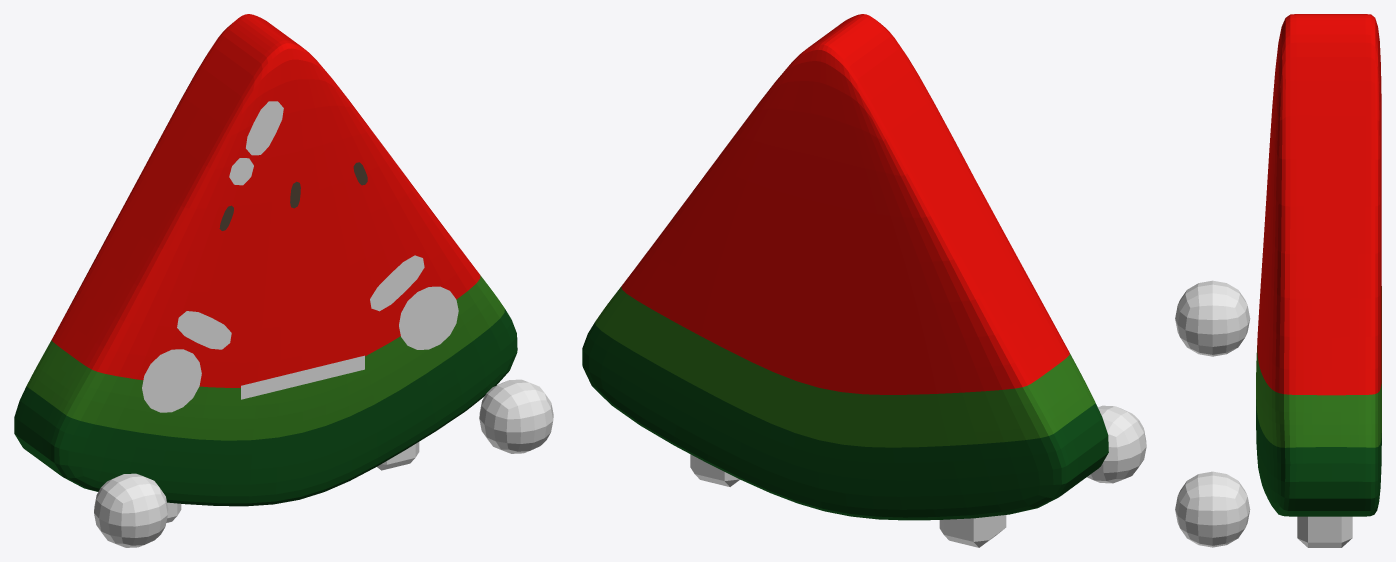
The model's file is Watermelon.fbx.
3 views of the same model, side by side, from view 1: azimuth 30°, elevation 25°; view 2: azimuth 150°, elevation 25°; view 3: azimuth 270°, elevation 25° (orthographic). The views are drawn at different scales.
Visible parts, largest first — view 1: Body, Cube, Eyes, Eyebrows, Mouth, Gloss, Pupils, Feet; view 2: Body, Cube, Feet; view 3: Body, Cube, Feet.
Boxes of the visible parts, box(x1,y1,x2,y2) form: Body: box(14, 14, 517, 506); Cube: box(94, 379, 553, 547); Eyes: box(142, 286, 458, 412); Eyebrows: box(177, 255, 424, 349); Mouth: box(241, 355, 364, 399); Gloss: box(229, 101, 283, 185); Pupils: box(152, 301, 433, 391); Feet: box(166, 442, 419, 522); Body: box(582, 14, 1108, 520); Cube: box(1087, 405, 1146, 483); Feet: box(690, 454, 1006, 547); Body: box(1256, 14, 1381, 516); Cube: box(1175, 280, 1250, 547); Feet: box(1297, 516, 1352, 547).
Bounding box in the file's own units: 252 × 238 × 95.78.
